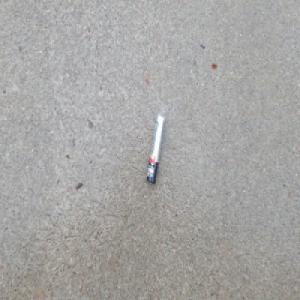Battery: (146, 114, 165, 187)
